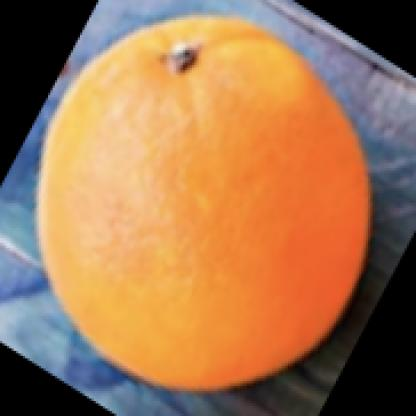fresh: (37, 16, 370, 395)
